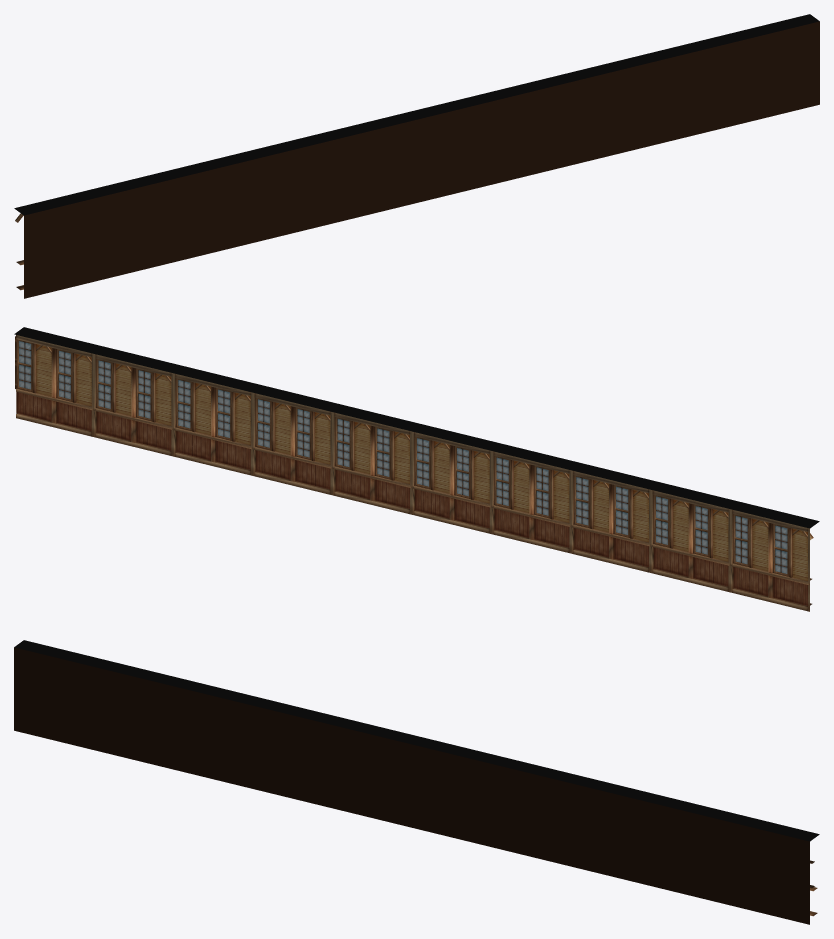
Rendered from s_SWGclass01a_2.glb.
3 renders of one model, top to bottom at view 1: azimuth 30°, elevation 25°; view 2: azimuth 150°, elevation 25°; view 3: azimuth 330°, elevation 25°, orthographic.
Parts seen in each view (by area): view 1: s_SWGclass01a_2; view 2: s_SWGclass01a_2; view 3: s_SWGclass01a_2.
Boxes of the visible parts, x1,y1,x2,y2 form: s_SWGclass01a_2: (14, 14, 819, 298); s_SWGclass01a_2: (14, 327, 819, 611); s_SWGclass01a_2: (14, 640, 819, 924).
Size of the model in its own units: 30 by 3 by 0.6502.
3 materials, 3 textured.
